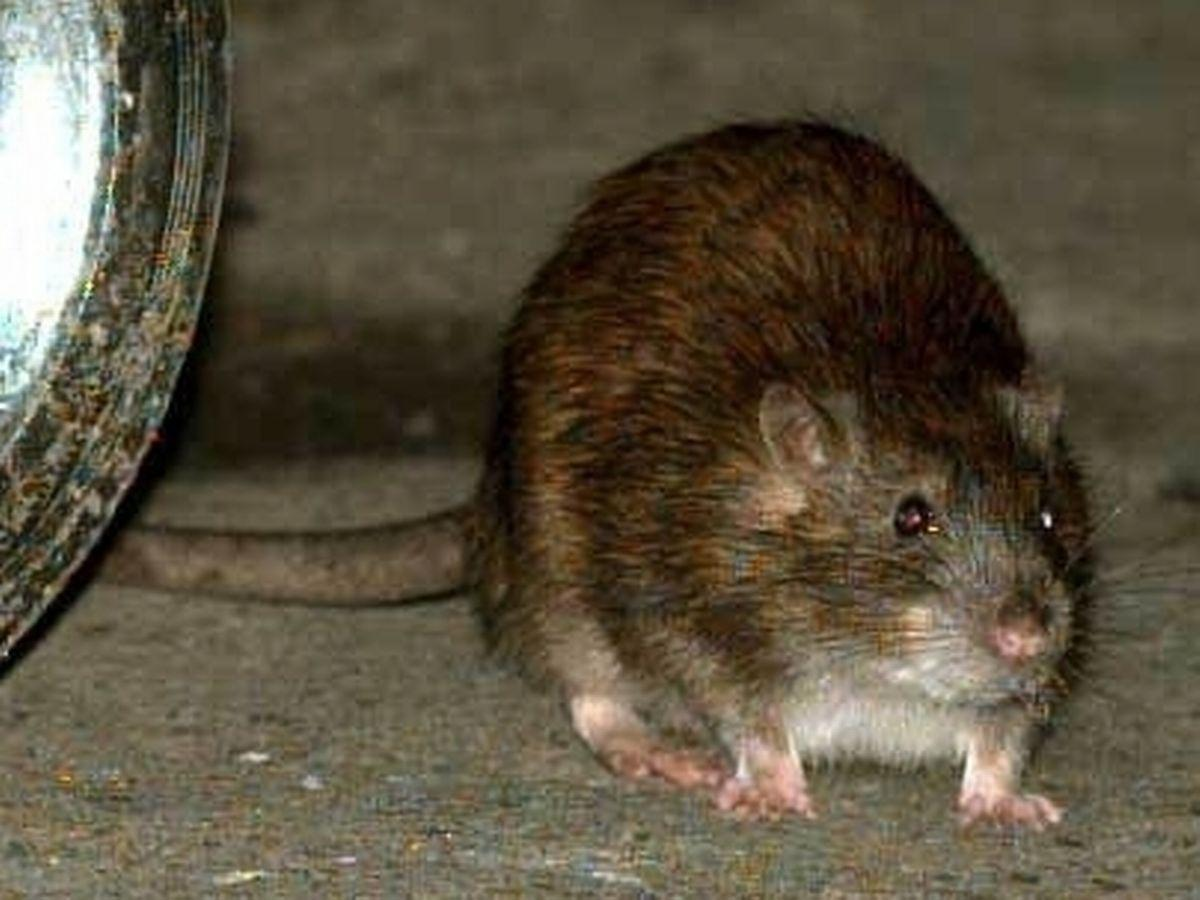rat: (114, 122, 1082, 830)
